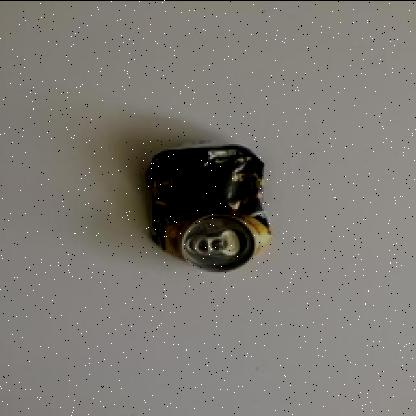Can: (143, 136, 277, 278)
